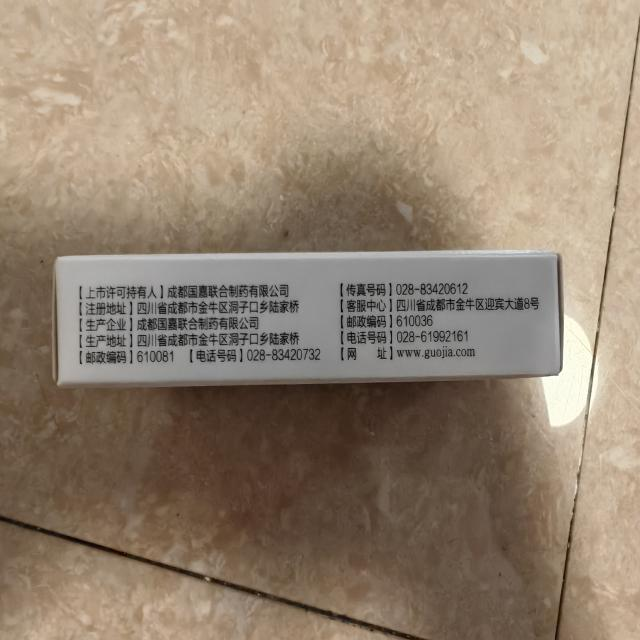box: (45, 244, 571, 396)
